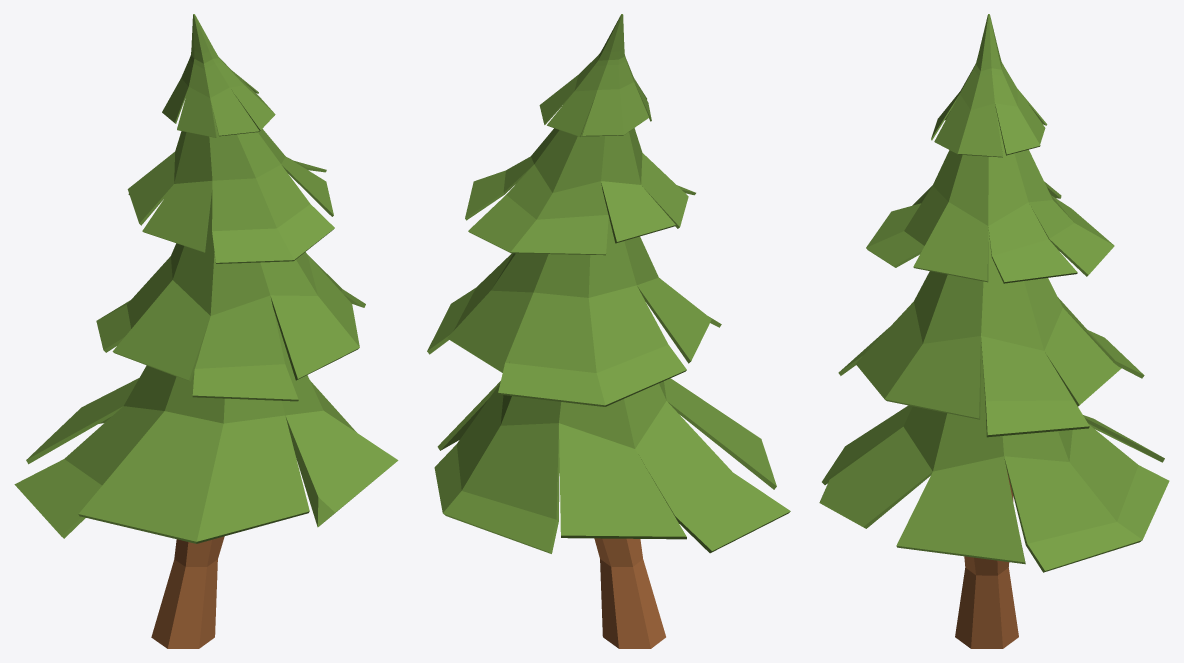
File: Christmas Tree_3.fbx
3 renders of one model, left to right at view 1: azimuth 30°, elevation 25°; view 2: azimuth 150°, elevation 25°; view 3: azimuth 270°, elevation 25°, orthographic.
Visible parts, largest first — view 1: M_Christmas Tree 3; view 2: M_Christmas Tree 3; view 3: M_Christmas Tree 3.
Part boxes in pixels (bbox=[...]): M_Christmas Tree 3: bbox=[14, 14, 398, 648]; M_Christmas Tree 3: bbox=[427, 14, 790, 648]; M_Christmas Tree 3: bbox=[819, 14, 1169, 648].
Size of the model in its own units: 143 by 263 by 133.
Materials: 1 (1 with a texture image).
